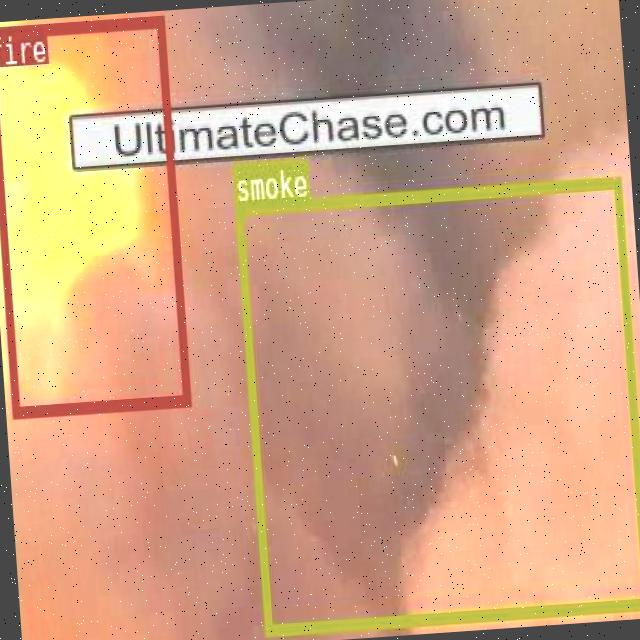fire: (0, 13, 188, 416)
smoke: (234, 175, 640, 634)
